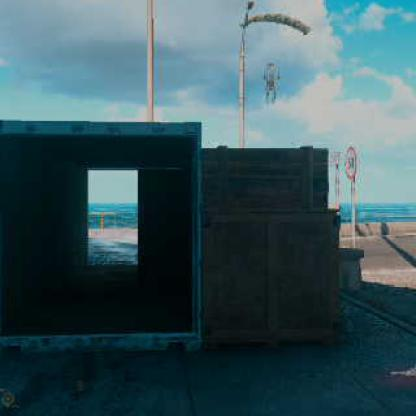enemy: (262, 68, 280, 105)
